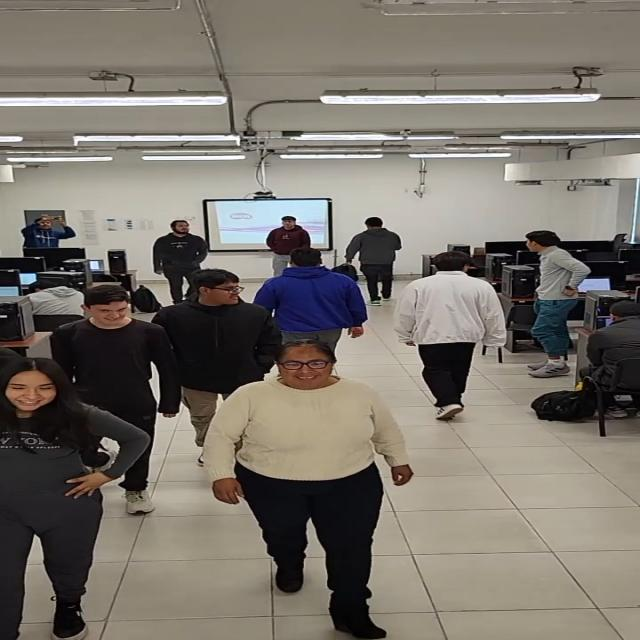Persona: (201, 338, 415, 640), (0, 357, 125, 640), (73, 285, 162, 513), (404, 248, 502, 424), (164, 274, 270, 384), (266, 248, 366, 342), (523, 228, 584, 382), (154, 214, 200, 298), (355, 217, 398, 304), (266, 212, 298, 269)
